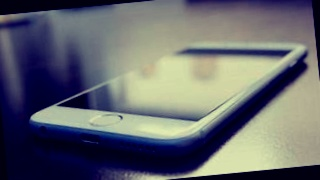iphone: (16, 38, 310, 173)
